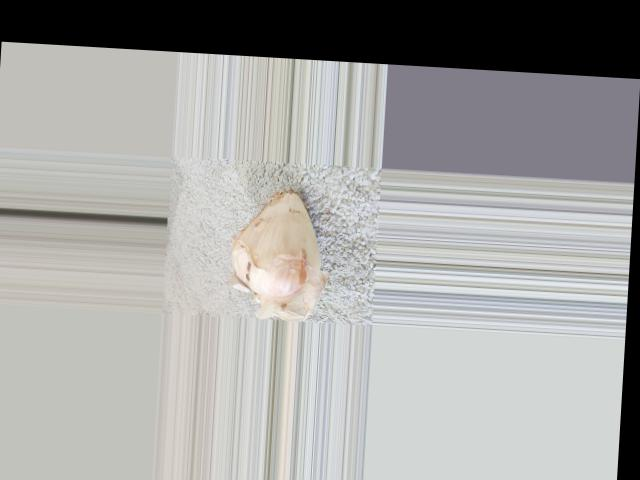onion: (228, 185, 319, 295)
